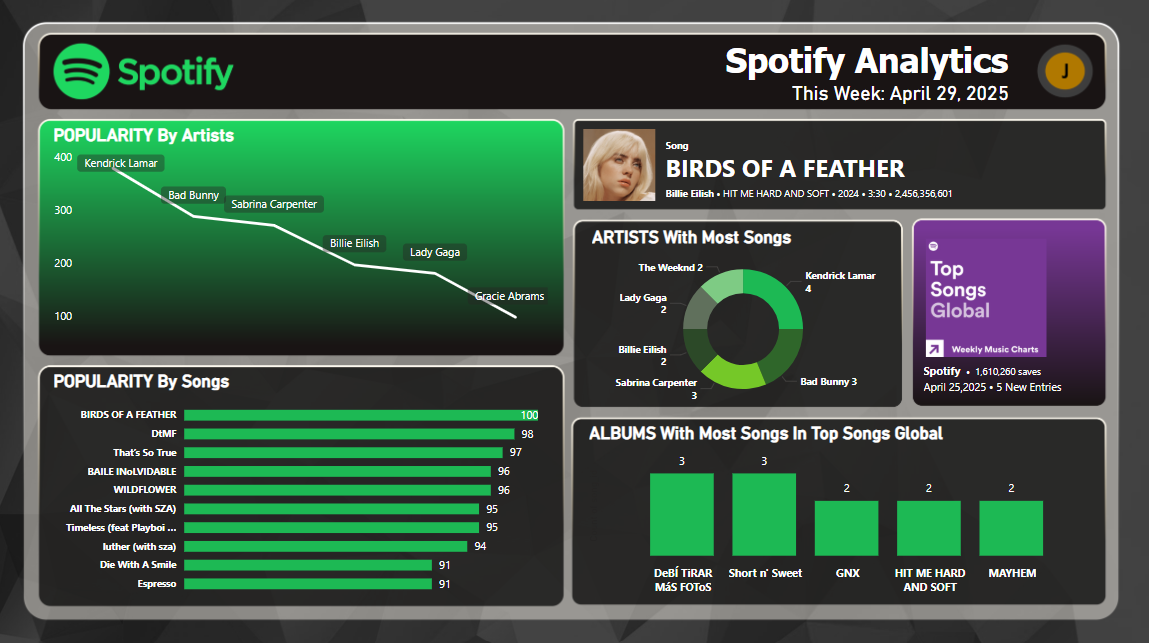

This screenshot's page, from the dashboard's own definition file:
{"tool":"powerbi","page":{"name":"Page 1","canvas":[1280,720],"ordinal":0},"visuals":[{"type":"donutChart","title":"ARTISTS With Most Songs","fields":{"Category":["SPOTIFY_TOP_50_SONGS.ARTIST_NAME"],"Y":["CountNonNull(SPOTIFY_TOP_50_SONGS.SONG_ID)"]},"box":[628.3,243.3,371.7,211.7],"z":0},{"type":"clusteredBarChart","title":"POPULARITY By Songs This Week - #1DB954","fields":{"Y":["Sum(SPOTIFY_TOP_50_SONGS.POPULARITY)"],"Category":["SPOTIFY_TOP_50_SONGS.SONG_NAME"]},"box":[50,415,563.3,258.3],"z":1000},{"type":"textbox","box":[768.3,38.3,380,98.3],"z":2000},{"type":"lineChart","title":"Songs By Release ","fields":{"Category":["SPOTIFY_TOP_50_SONGS.RELEASE_DATE.Variation.Date Hierarchy.Month"],"Y":["CountNonNull(SPOTIFY_TOP_50_SONGS.SONG_NAME)"]},"box":[53.3,136.7,563.3,266.7],"z":3000},{"type":"columnChart","title":"ALBUMS With Most Songs In Top Global","fields":{"Category":["SPOTIFY_TOP_50_SONGS.ALBUM_NAME"],"Y":["CountNonNull(SPOTIFY_TOP_50_SONGS.SONG_NAME)"]},"box":[643.3,473.3,568.3,198.3],"z":4000},{"type":"card","fields":{"Values":["SPOTIFY_TOP_50_SONGS.CurrentDate"]},"box":[871.7,80,360,35],"z":5000},{"type":"image","box":[645,123.3,90,120],"z":6000},{"type":"textbox","box":[736.7,148.3,495,80],"z":7000},{"type":"image","box":[1000,260,191.7,143.3],"z":8000},{"type":"textbox","box":[1023.3,396.7,188.3,46.7],"z":9000}]}

Visuals, with their boxes in screenshot pixels (x1, y1, x2, y2), scaled from the page's 1280x720 canvas onto the 1149x643 screenshot:
"ARTISTS With Most Songs" donutChart: l=564, t=217, r=898, b=406
"POPULARITY By Songs This Week - #1DB954" clusteredBarChart: l=45, t=371, r=551, b=601
textbox: l=690, t=34, r=1031, b=122
"Songs By Release " lineChart: l=48, t=122, r=553, b=360
"ALBUMS With Most Songs In Top Global" columnChart: l=577, t=423, r=1088, b=600
card - SPOTIFY_TOP_50_SONGS.CurrentDate: l=782, t=71, r=1106, b=103
image: l=579, t=110, r=660, b=217
textbox: l=661, t=132, r=1106, b=204
image: l=898, t=232, r=1070, b=360
textbox: l=919, t=354, r=1088, b=396
